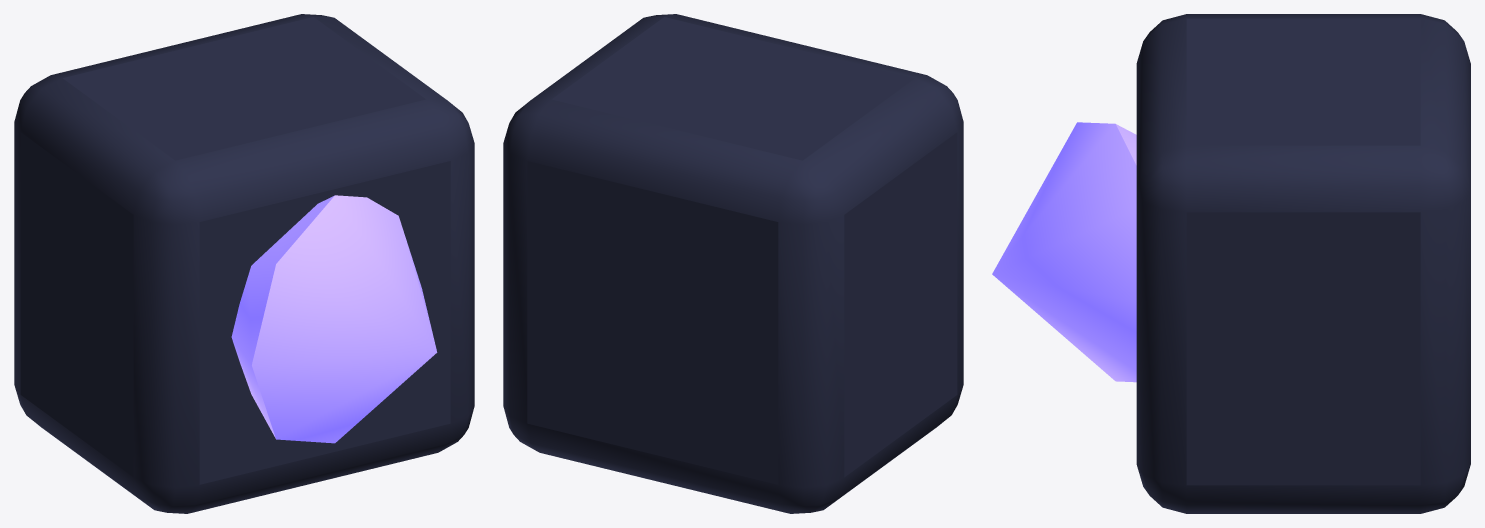
Rendered from drahokam_1.glb.
3 views of the same model, side by side, from view 1: azimuth 30°, elevation 25°; view 2: azimuth 150°, elevation 25°; view 3: azimuth 270°, elevation 25° (orthographic). The views are drawn at different scales.
Visible parts, largest first — view 1: drahokam_0_luzko, drahokam_0_m; view 2: drahokam_0_luzko; view 3: drahokam_0_luzko, drahokam_0_m.
Part boxes in pixels (box(x1,y1,x2,y2)): drahokam_0_luzko: box(14, 14, 474, 513); drahokam_0_m: box(231, 195, 437, 443); drahokam_0_luzko: box(503, 14, 963, 513); drahokam_0_luzko: box(1136, 14, 1470, 513); drahokam_0_m: box(992, 122, 1136, 382).
Bounding box in the file's own units: 0.96 × 0.96 × 1.15.
